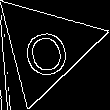O_N: (19, 17, 73, 77)
